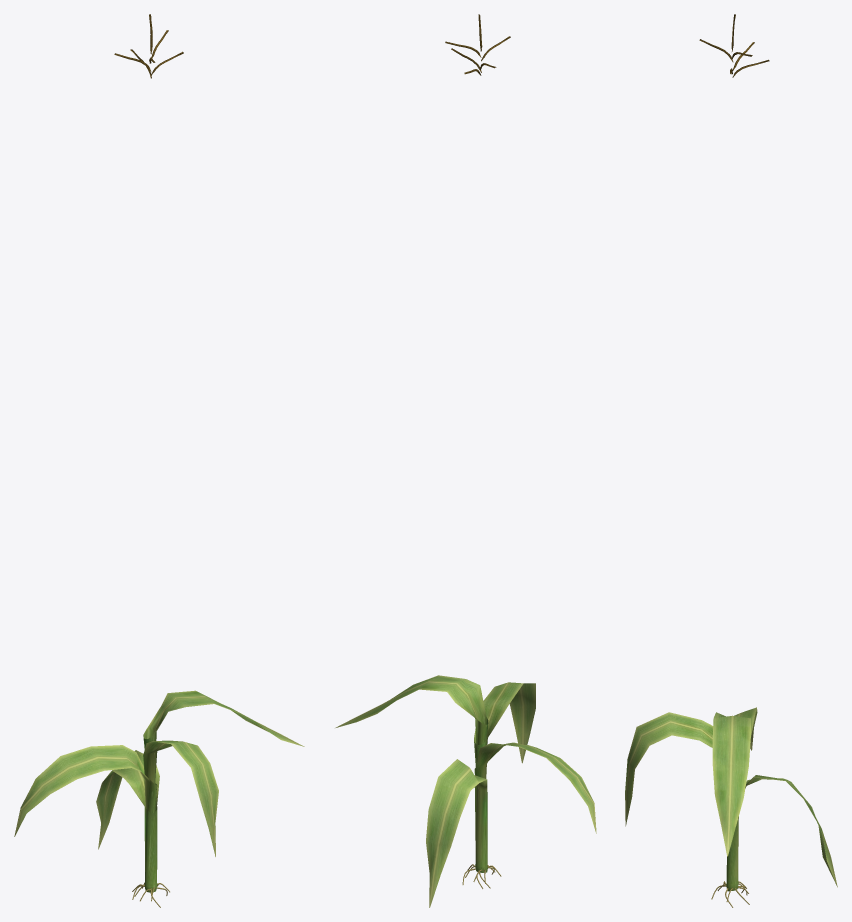
The model's file is corn.dae.
The picture shows the model from 3 angles, left to right: view 1: azimuth 30°, elevation 25°; view 2: azimuth 150°, elevation 25°; view 3: azimuth 270°, elevation 25°; orthographic projection. The views are drawn at different scales.
Parts seen in each view (by area): view 1: Plane.011, Plane.008, Plane.010, Plane.009; view 2: Plane.008, Plane.010, Plane.009, Plane.011; view 3: Plane.009, Plane.010, Plane.008.
Boxes of the visible parts, box(x1,y1,x2,y2) form: Plane.011: box(14, 745, 157, 836); Plane.008: box(96, 750, 159, 892); Plane.010: box(143, 740, 218, 856); Plane.009: box(143, 690, 304, 748); Plane.008: box(426, 759, 487, 907); Plane.010: box(474, 682, 535, 767); Plane.009: box(335, 675, 488, 745); Plane.011: box(474, 742, 596, 833); Plane.009: box(712, 712, 750, 856); Plane.010: box(625, 712, 713, 826); Plane.008: box(726, 775, 837, 891).
Size of the model in its own units: 0.8732 by 0.5767 by 2.65.
